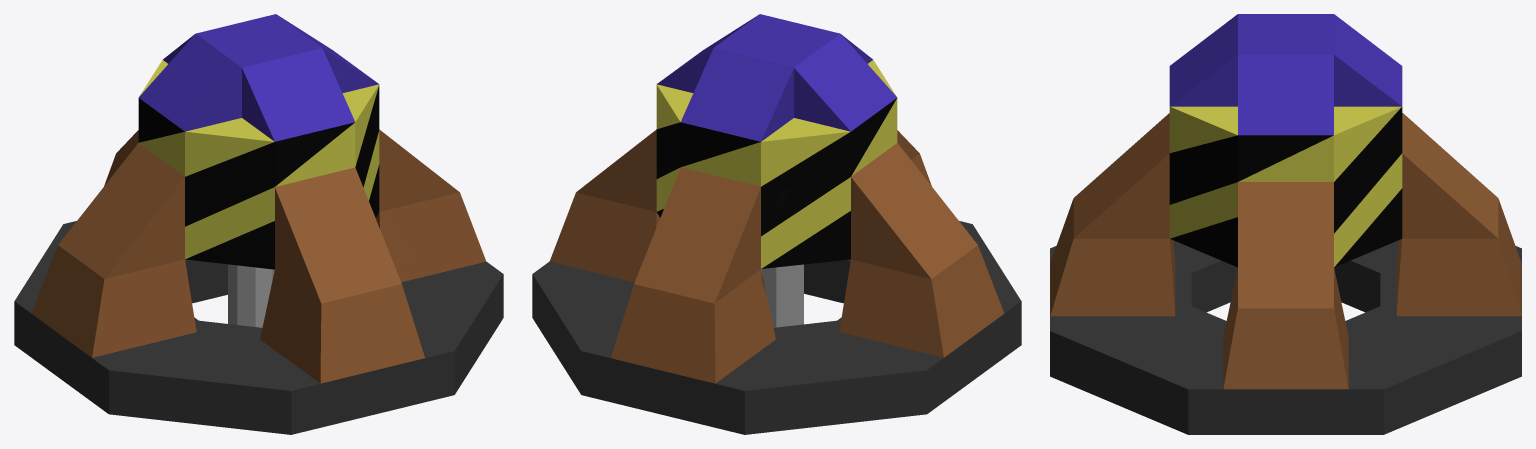
The model's file is Miner.fbx.
3 views of the same model, side by side, from view 1: azimuth 30°, elevation 25°; view 2: azimuth 150°, elevation 25°; view 3: azimuth 270°, elevation 25° (orthographic). The views are drawn at different scales.
Visible parts, largest first — view 1: Base, Drill; view 2: Base, Drill; view 3: Base.
Part boxes in pixels (<box>): Base: <box>14,14,503,434</box>; Drill: <box>228,264,274,327</box>; Base: <box>532,14,1021,434</box>; Drill: <box>761,264,803,327</box>; Base: <box>1050,14,1521,434</box>.
Bounding box in the file's own units: 375 × 290 × 375.
